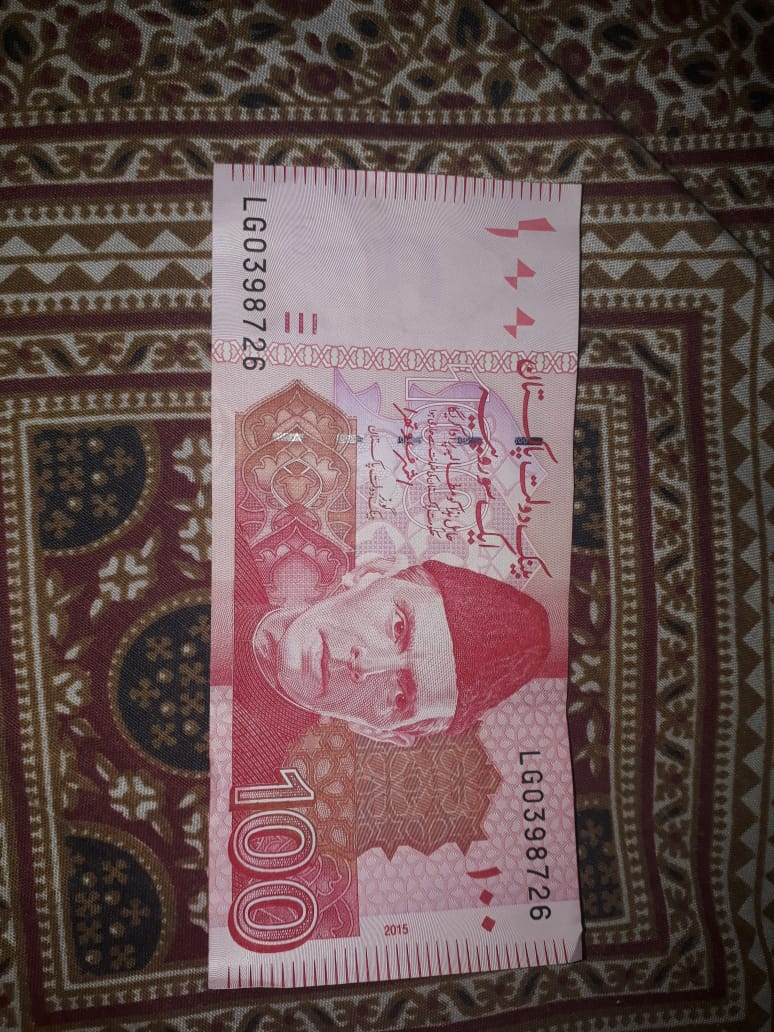100 rupee: (216, 171, 576, 984)
